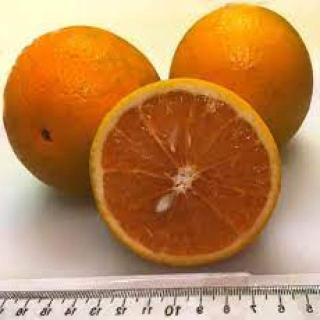orange: (83, 73, 287, 273), (0, 24, 158, 226), (163, 0, 316, 183)
